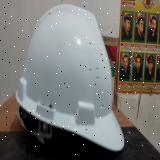Helmet: (15, 4, 124, 152)
